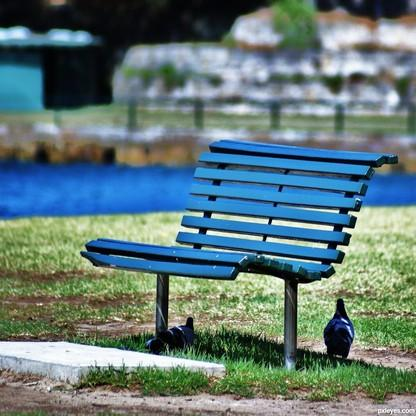obstacle: (66, 130, 394, 370)
